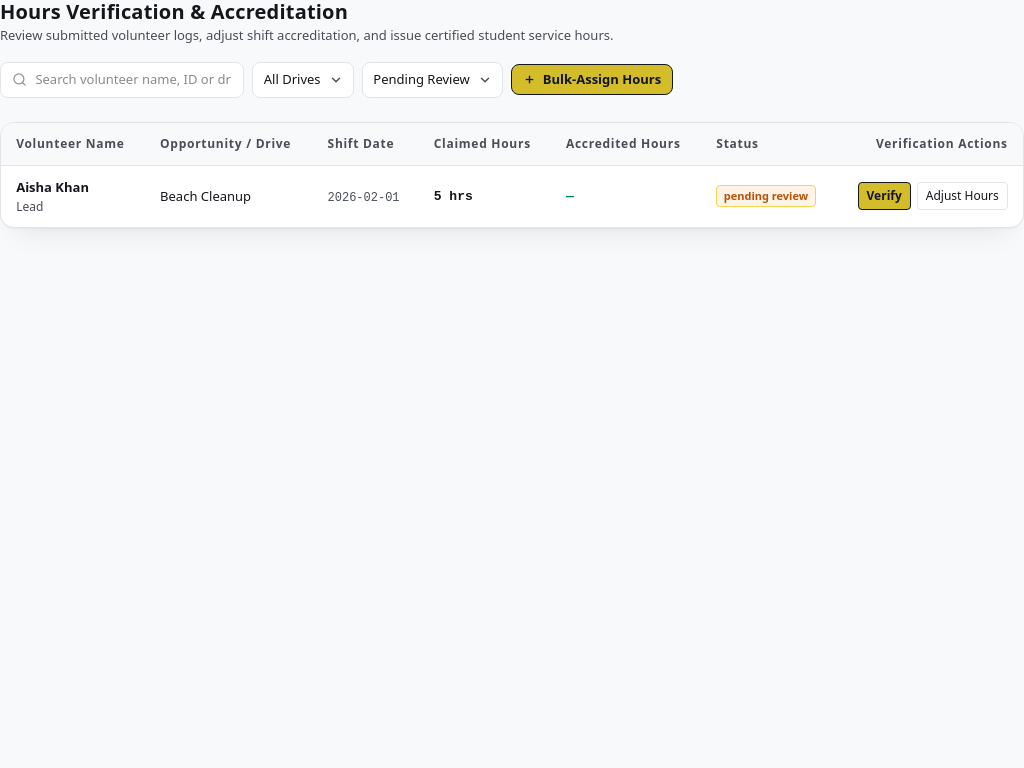
Test: YouthRepublicHoursPage › keeps the bulk-assign form hidden until its button is clicked, then shows it in a modal
Expected: the text "Aisha Khan" is shown, [16,178,89,197]
Step 1. Click the button "Bulk-Assign Hours" → (592, 80), box [511,64,672,96]
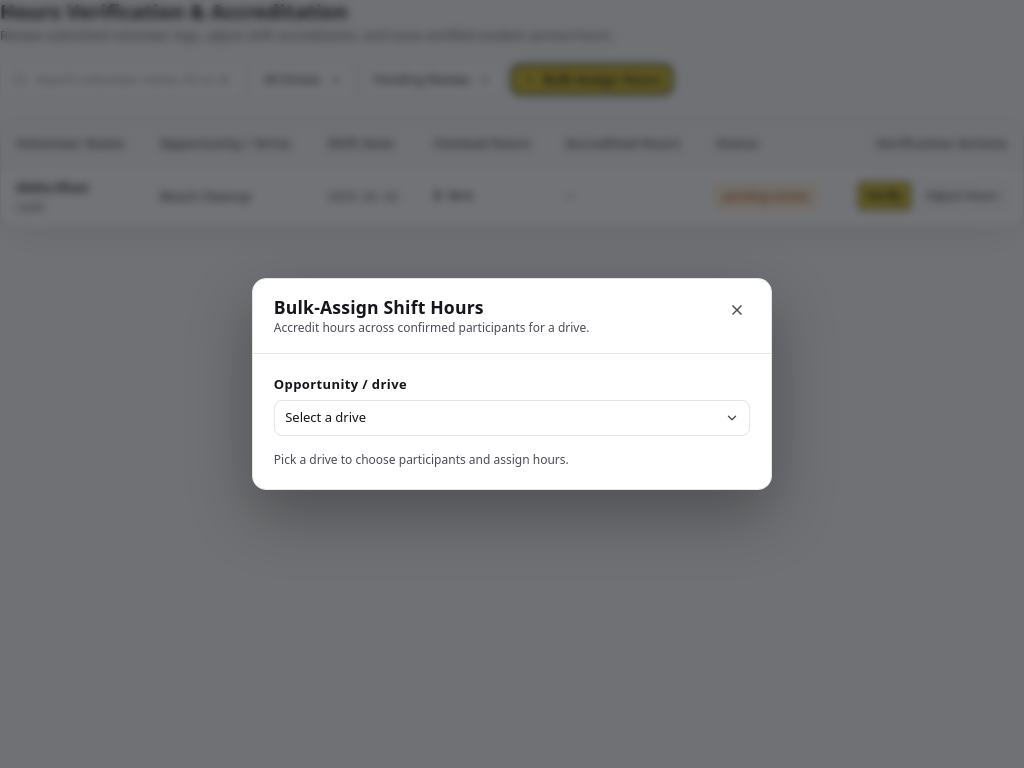
Expected: the dialog is shown, [252,278,772,490]
Expected: the dropdown named "Opportunity / drive" is shown, [274,400,750,436]
